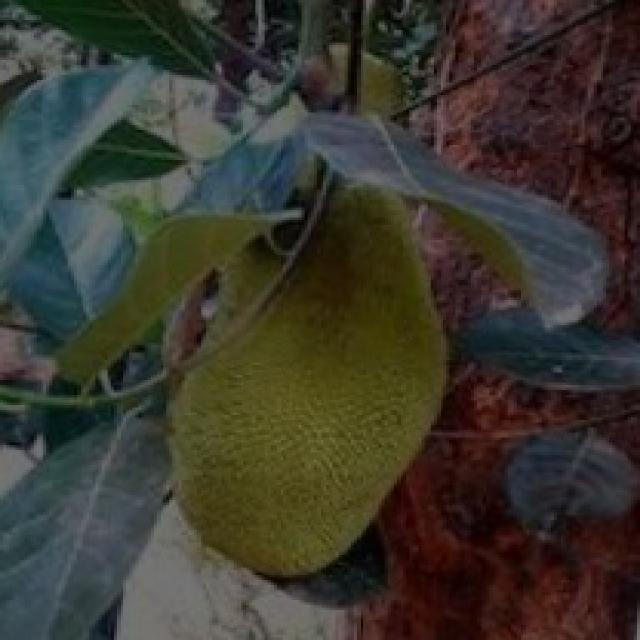Fruit: (135, 188, 483, 610)
